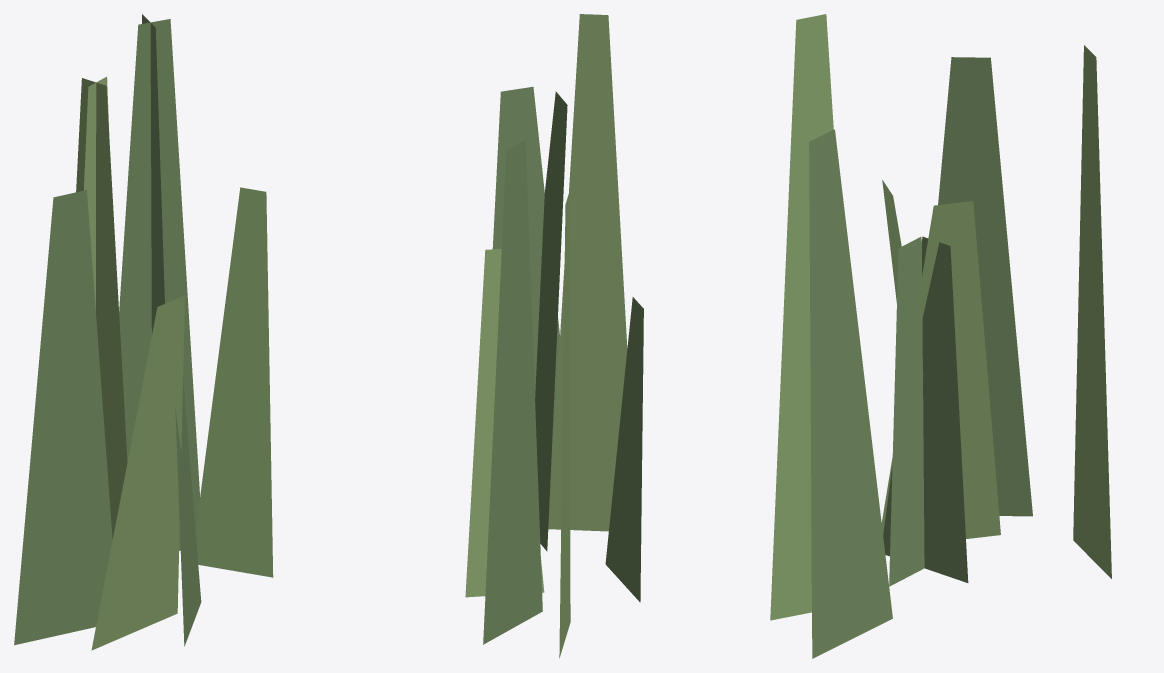
Rendered from nong.dao@subadult__bloom.glb.
3 renders of one model, left to right at view 1: azimuth 30°, elevation 25°; view 2: azimuth 150°, elevation 25°; view 3: azimuth 270°, elevation 25°, orthographic. The views are drawn at different scales.
Visible parts, largest first — view 1: nong.dao@subadult__bloom; view 2: nong.dao@subadult__bloom; view 3: nong.dao@subadult__bloom.
Part boxes in pixels (box(x1,y1,x2,y2)): nong.dao@subadult__bloom: box(14, 14, 273, 650); nong.dao@subadult__bloom: box(465, 14, 643, 658); nong.dao@subadult__bloom: box(770, 14, 1111, 658).
Size of the model in its own units: 0.3454 by 0.5597 by 0.3268.
